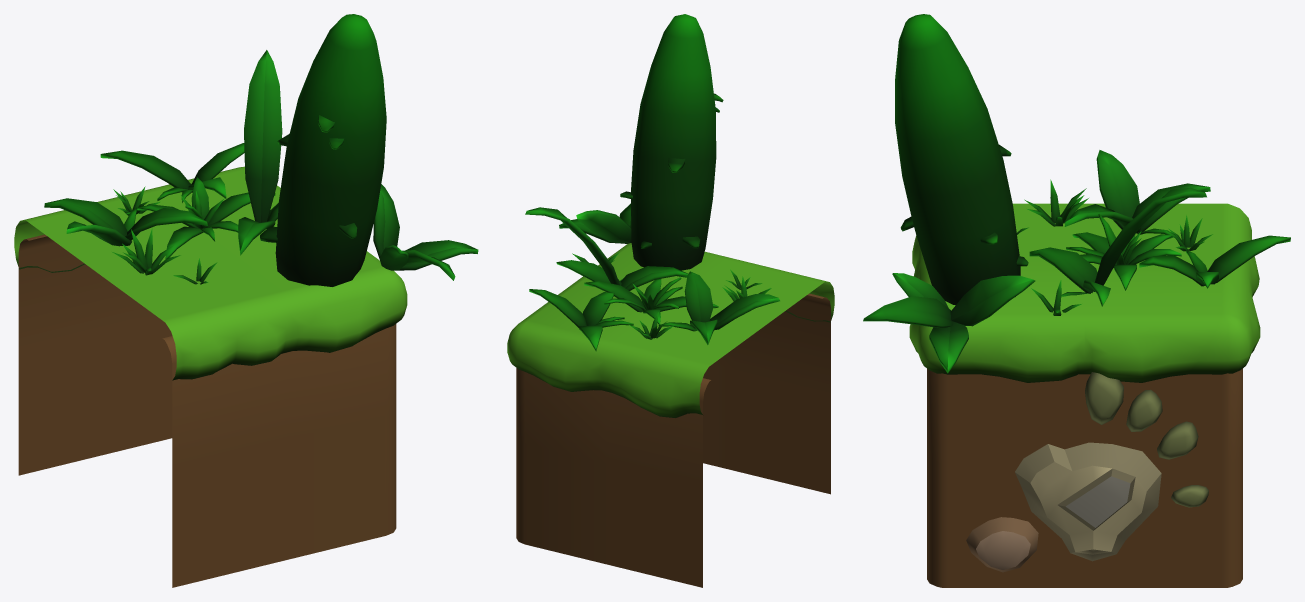
Rendered from Tutor_Island_04.fbx.
3 renders of one model, left to right at view 1: azimuth 30°, elevation 25°; view 2: azimuth 150°, elevation 25°; view 3: azimuth 270°, elevation 25°, orthographic. The views are drawn at different scales.
Parts seen in each view (by area): view 1: Island_04; view 2: Island_04; view 3: Island_04.
Part boxes in pixels (<box>): Island_04: <box>14,14,478,587</box>; Island_04: <box>507,14,834,587</box>; Island_04: <box>863,14,1290,587</box>.
Size of the model in its own units: 5858 by 8748 by 6225.
